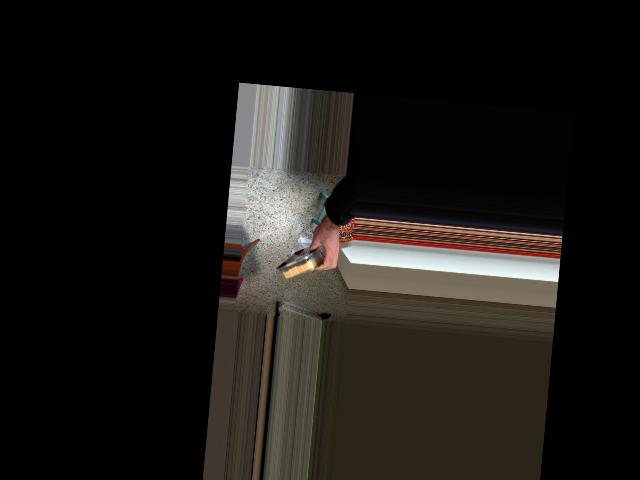cheese: (272, 231, 348, 294)
